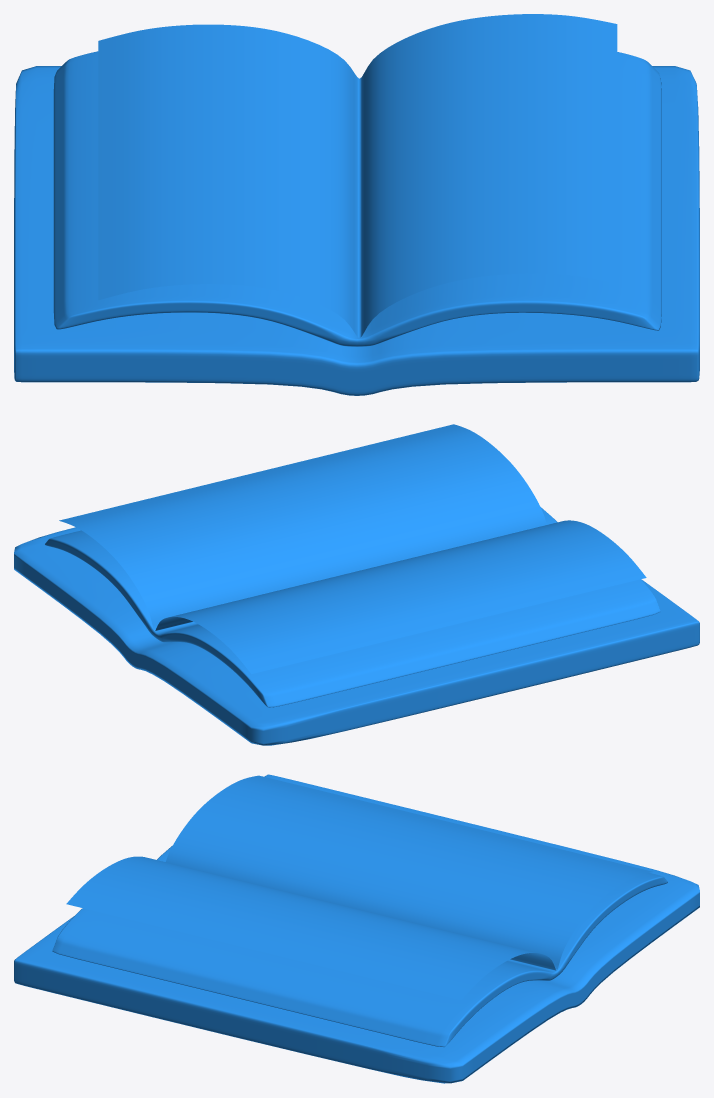
The model's file is Book4.glb.
The picture shows the model from 3 angles, top to bottom: view 1: azimuth 30°, elevation 25°; view 2: azimuth 150°, elevation 25°; view 3: azimuth 270°, elevation 25°; orthographic projection. The views are drawn at different scales.
Visible parts, largest first — view 1: polySurface5, polySurface1, polySurface4; view 2: polySurface5, polySurface1, polySurface4; view 3: polySurface5, polySurface1, polySurface4.
Part boxes in pixels (x1,y1,x2,y2): polySurface5: (98,14,617,338); polySurface1: (14,66,699,395); polySurface4: (53,51,661,346); polySurface5: (59,424,646,674); polySurface1: (14,507,699,745); polySurface4: (45,530,660,707); polySurface5: (66,775,653,1000); polySurface1: (14,774,699,1083); polySurface4: (52,873,667,1046).
Bounding box in the file's own units: 90.32 × 11.79 × 90.5.
